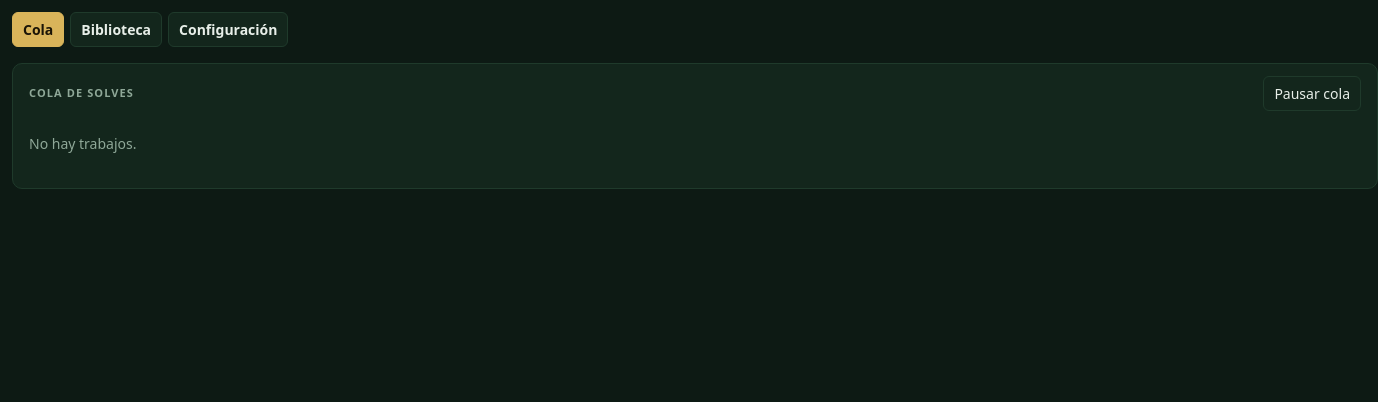
Scenario: SolverPage › shows an error when the cache clear fails
What coordinates should you click on to do the following:
click the tab "Configuración"
I would click on:
 (228, 30)
Its box is [168, 12, 288, 47].
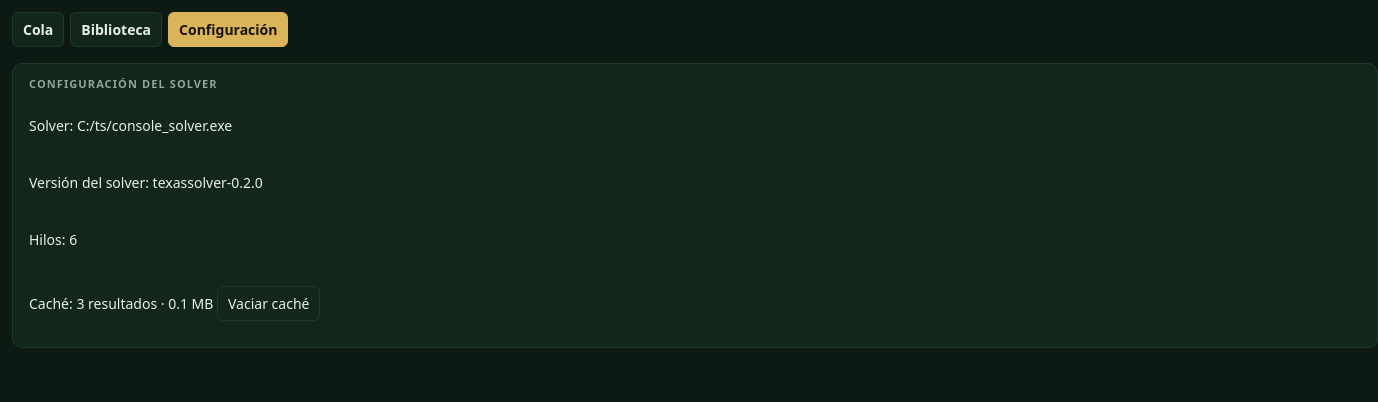
What coordinates should you click on to do the following:
click the button "Vaciar caché"
I would click on:
 (269, 303)
Its box is [217, 286, 320, 320].
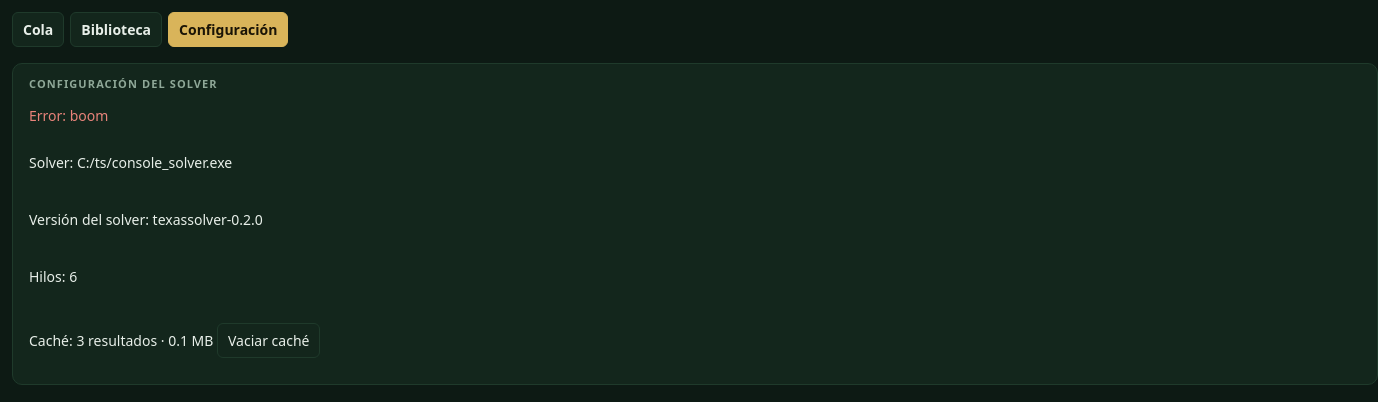
Expected: the text "Error: boom" is shown, [29, 106, 108, 124]
